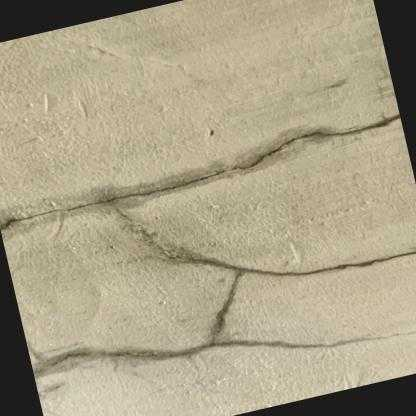crack: (1, 110, 416, 381)
